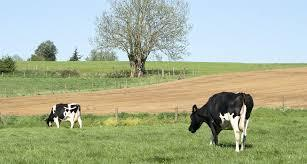cow: (188, 91, 254, 152), (44, 103, 82, 128)
